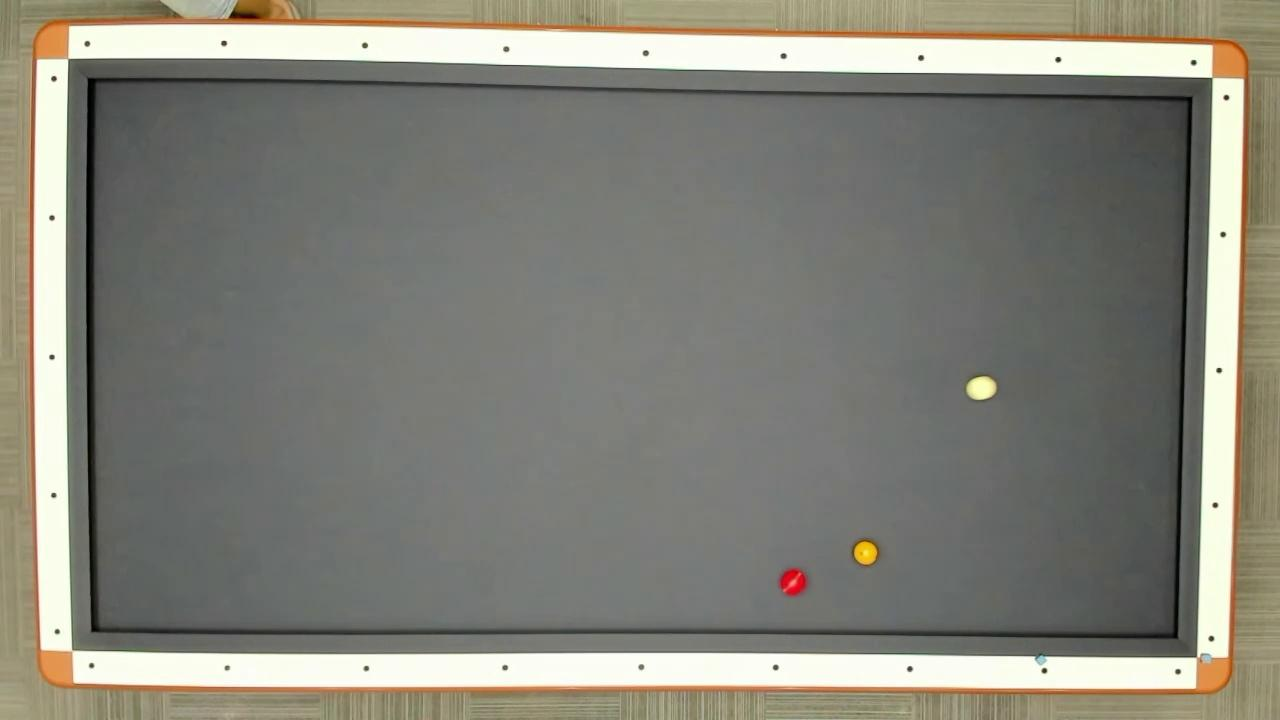Red: (778, 566, 809, 598)
White: (965, 373, 998, 403)
Yellow: (850, 538, 879, 569)
